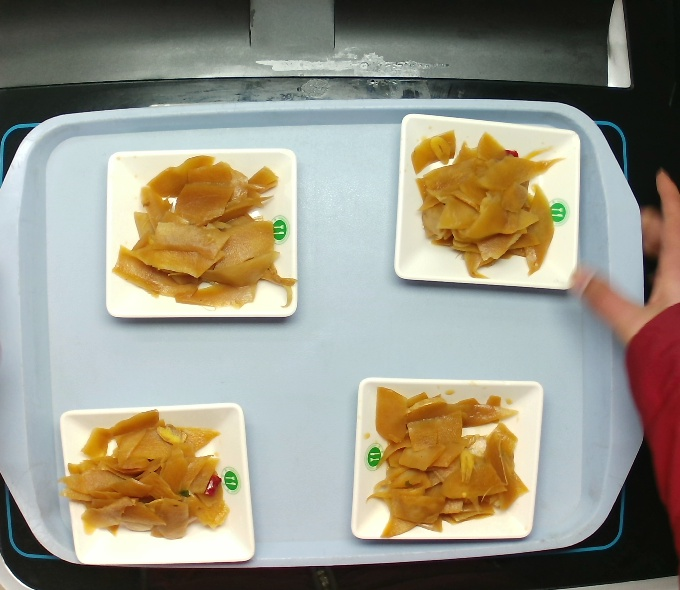wcq-JiangLuoBo: (70, 411, 230, 557), (413, 122, 560, 279), (366, 389, 526, 528), (120, 165, 283, 299)
